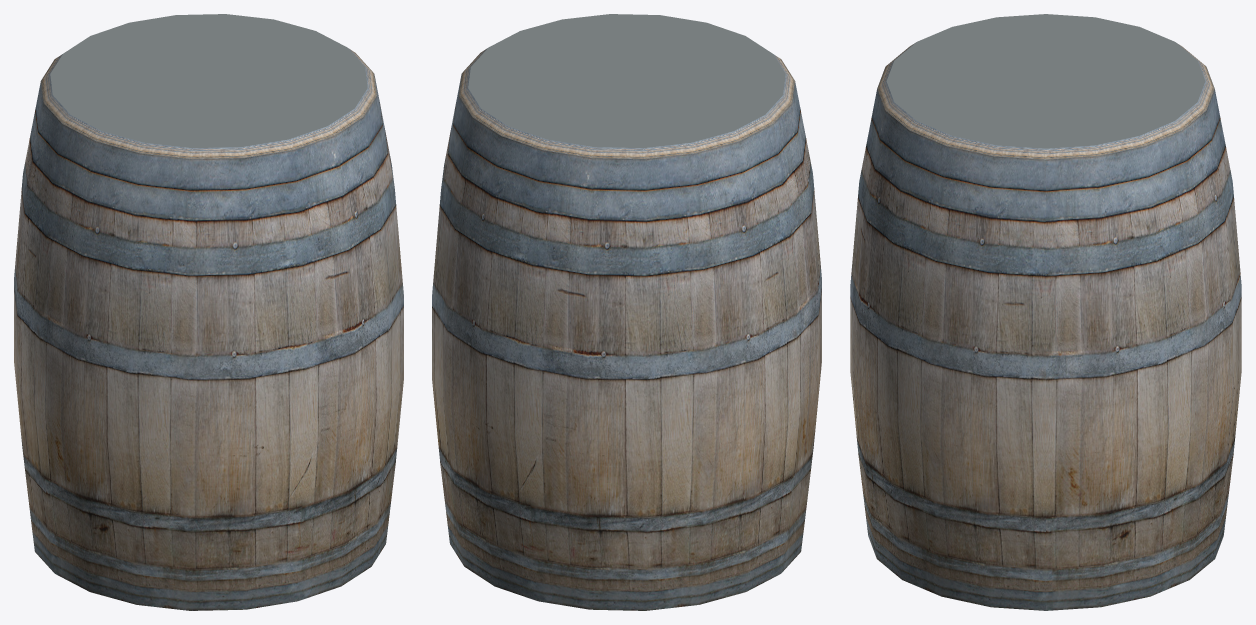
File: Barrel.obj
3 renders of one model, left to right at view 1: azimuth 30°, elevation 25°; view 2: azimuth 150°, elevation 25°; view 3: azimuth 270°, elevation 25°, orthographic.
Parts seen in each view (by area): view 1: pCylinder1; view 2: pCylinder1; view 3: pCylinder1.
Boxes of the visible parts, box(x1,y1,x2,y2) form: pCylinder1: box(14, 14, 403, 610); pCylinder1: box(432, 14, 821, 610); pCylinder1: box(850, 14, 1241, 610).
Size of the model in its own units: 1.08 by 1.39 by 1.08.
1 material, 1 textured.
